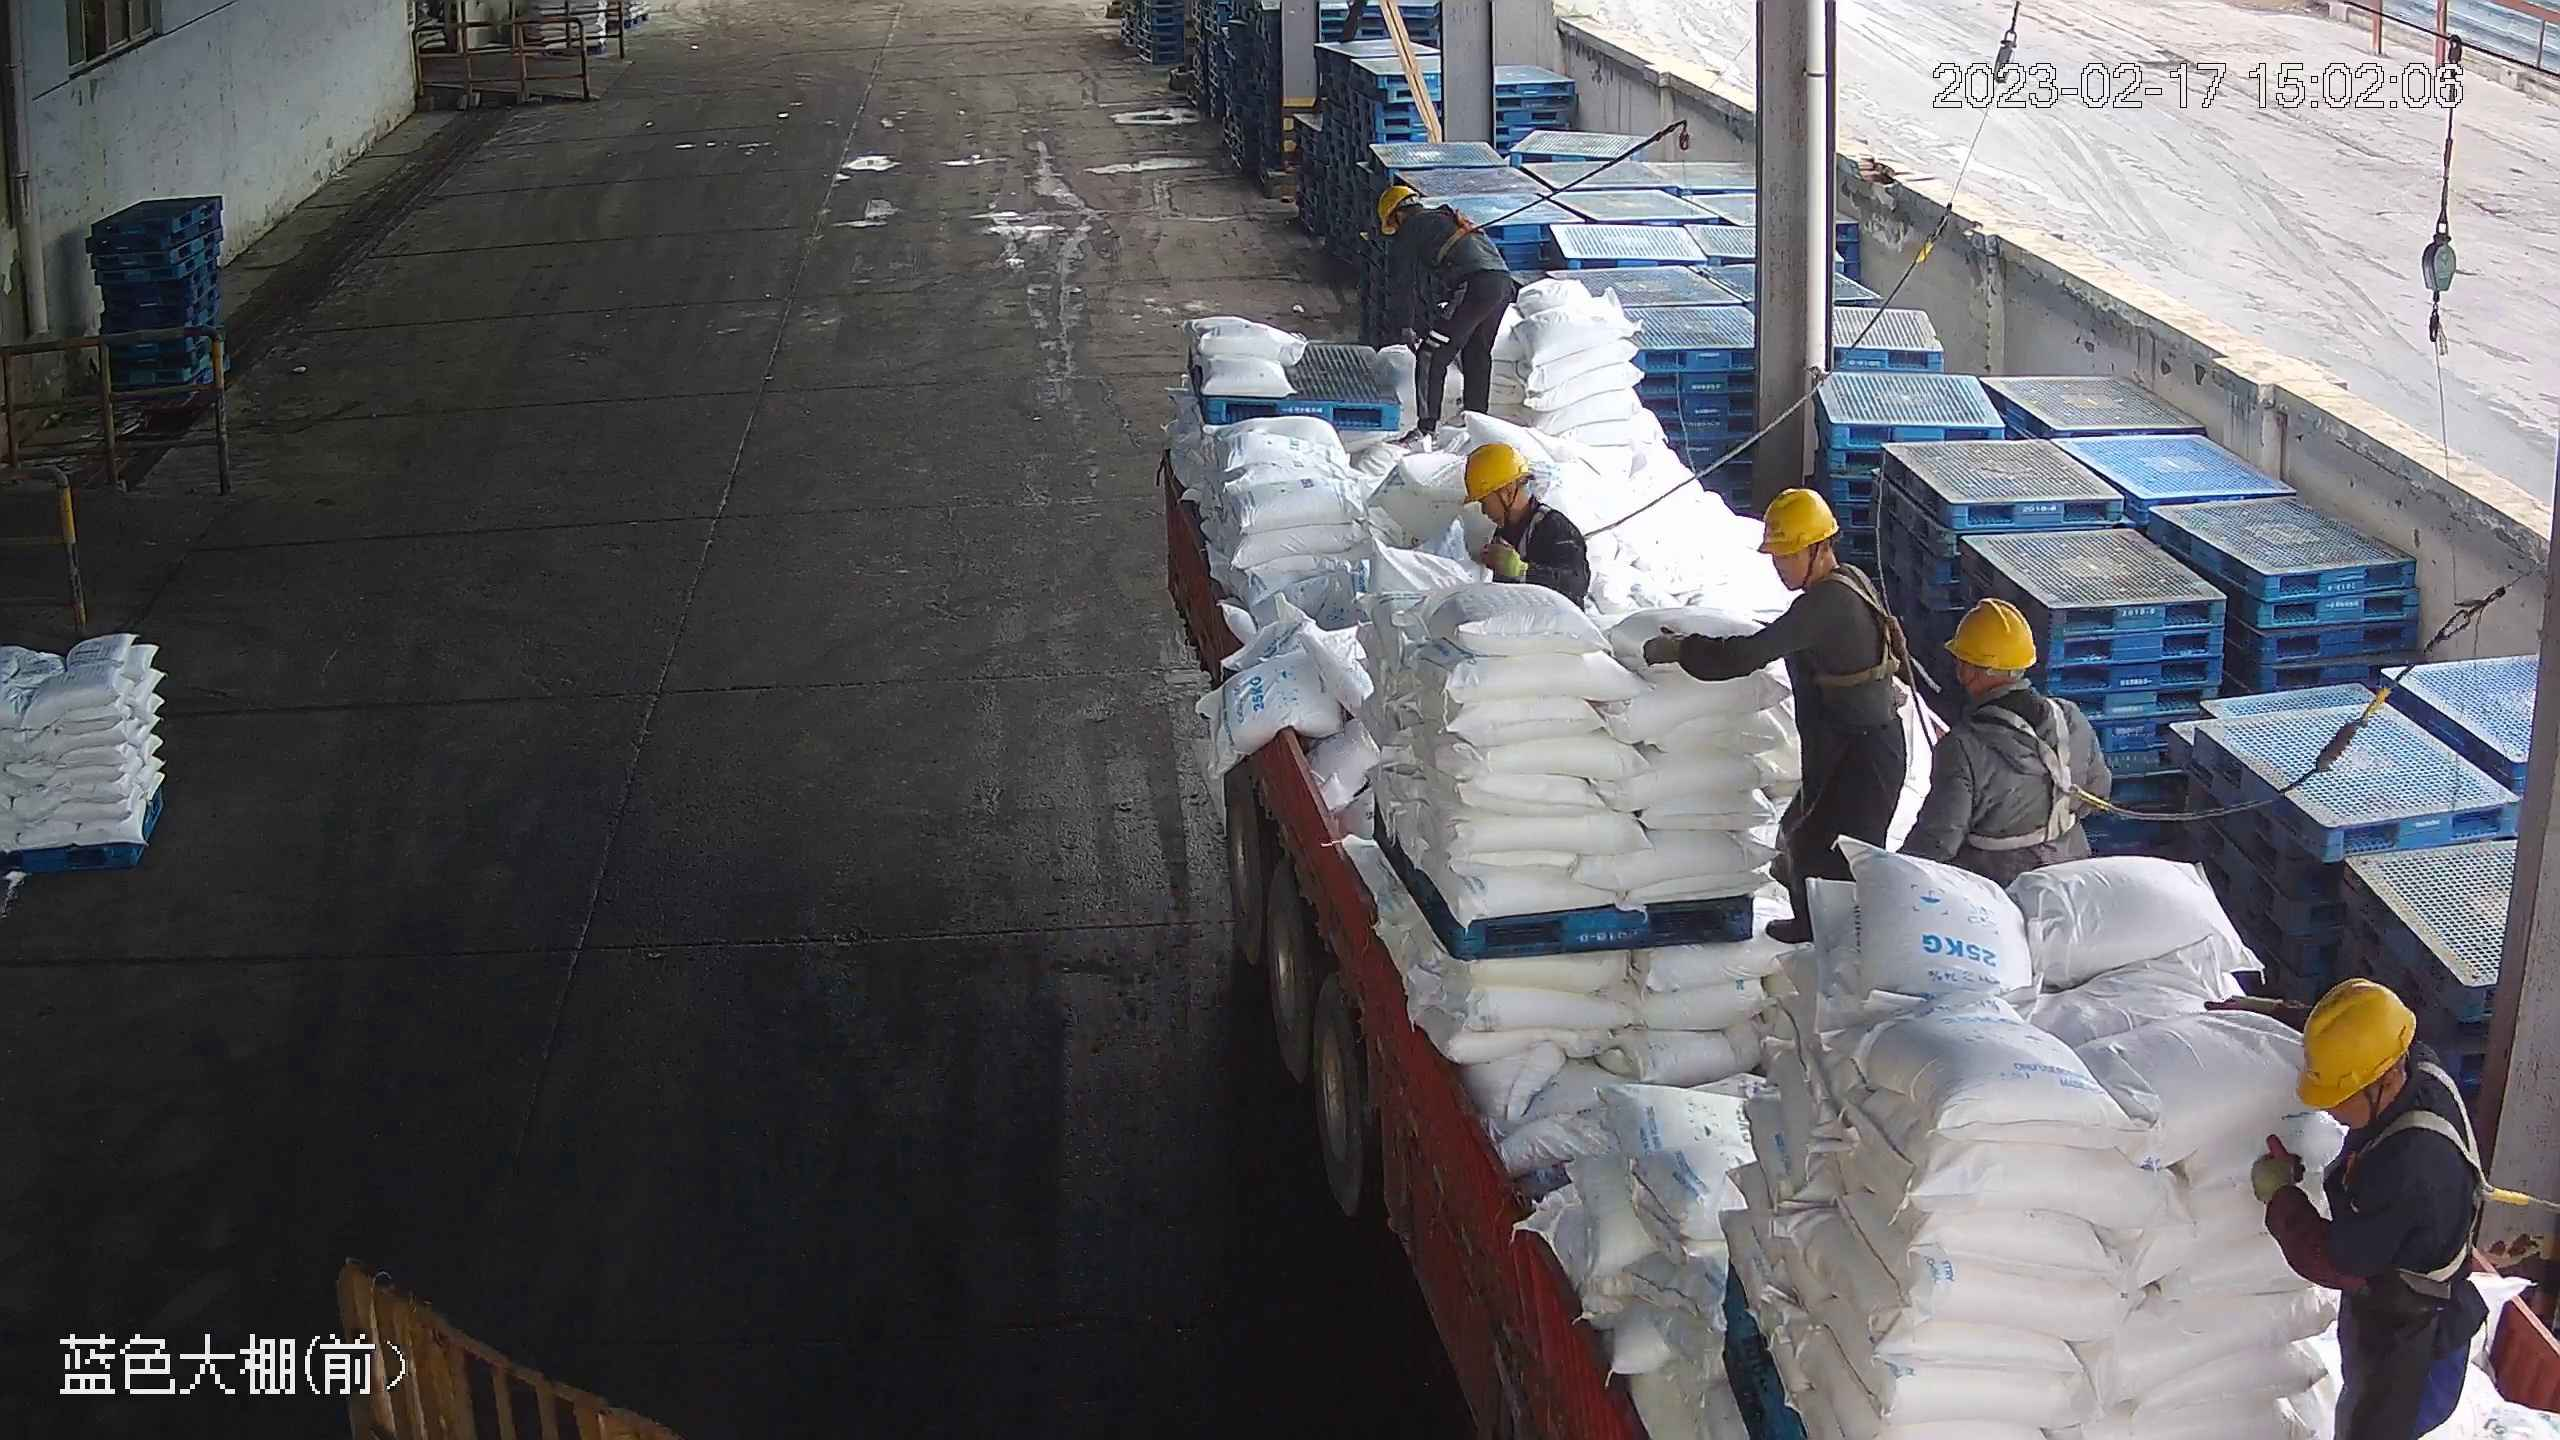belt: (2351, 1074, 2509, 1293), (1961, 697, 2116, 856), (1803, 564, 1919, 690), (1420, 203, 1489, 262), (1490, 502, 1551, 561)
head: (2286, 978, 2489, 1216), (1935, 596, 2106, 774), (1752, 485, 1902, 648), (1459, 440, 1587, 560), (1377, 182, 1470, 258)
helmet: (2292, 975, 2416, 1108), (1940, 596, 2039, 670), (1758, 484, 1840, 556), (1461, 439, 1531, 499), (1376, 183, 1422, 233)
people: (1644, 482, 1923, 954), (2252, 974, 2493, 1437), (1901, 595, 2111, 890), (1372, 181, 1520, 446)
truck: (1154, 411, 2546, 1437)
